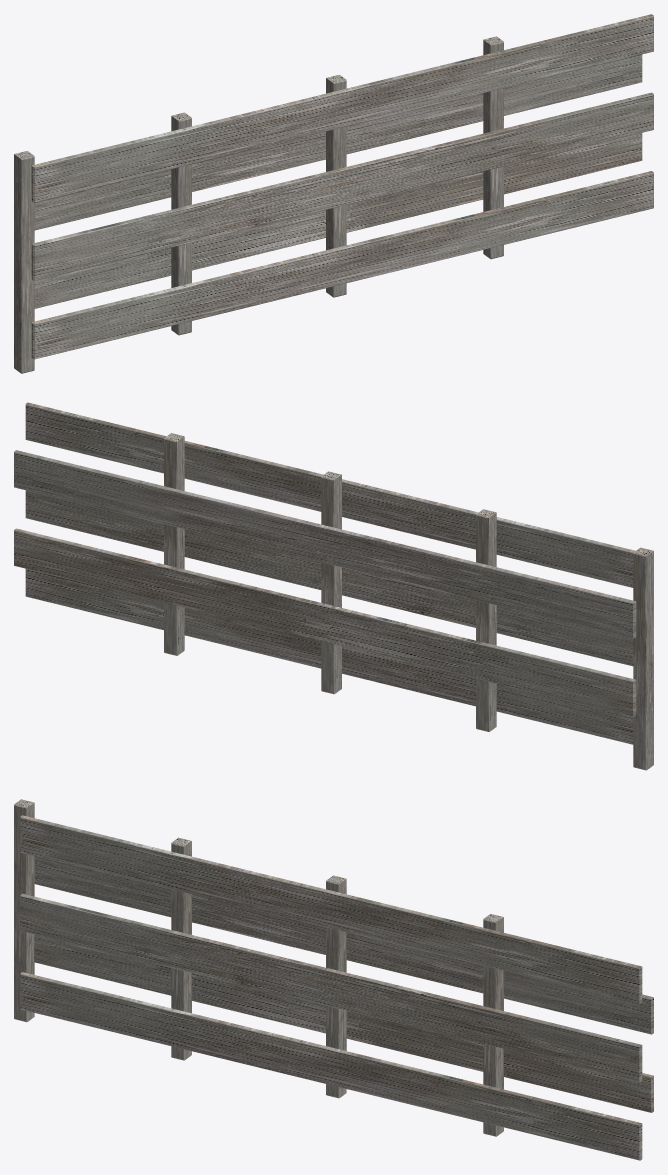
The model's file is fence.fbx.
3 renders of one model, top to bottom at view 1: azimuth 30°, elevation 25°; view 2: azimuth 150°, elevation 25°; view 3: azimuth 330°, elevation 25°, orthographic.
Visible parts, largest first — view 1: 3D学院 模型无限; view 2: 3D学院 模型无限; view 3: 3D学院 模型无限.
Part boxes in pixels (x1,y1,x2,y2): 3D学院 模型无限: [14, 14, 653, 373]; 3D学院 模型无限: [14, 402, 653, 770]; 3D学院 模型无限: [14, 799, 653, 1160].
Size of the model in its own units: 5.04 by 1.64 by 0.2.
